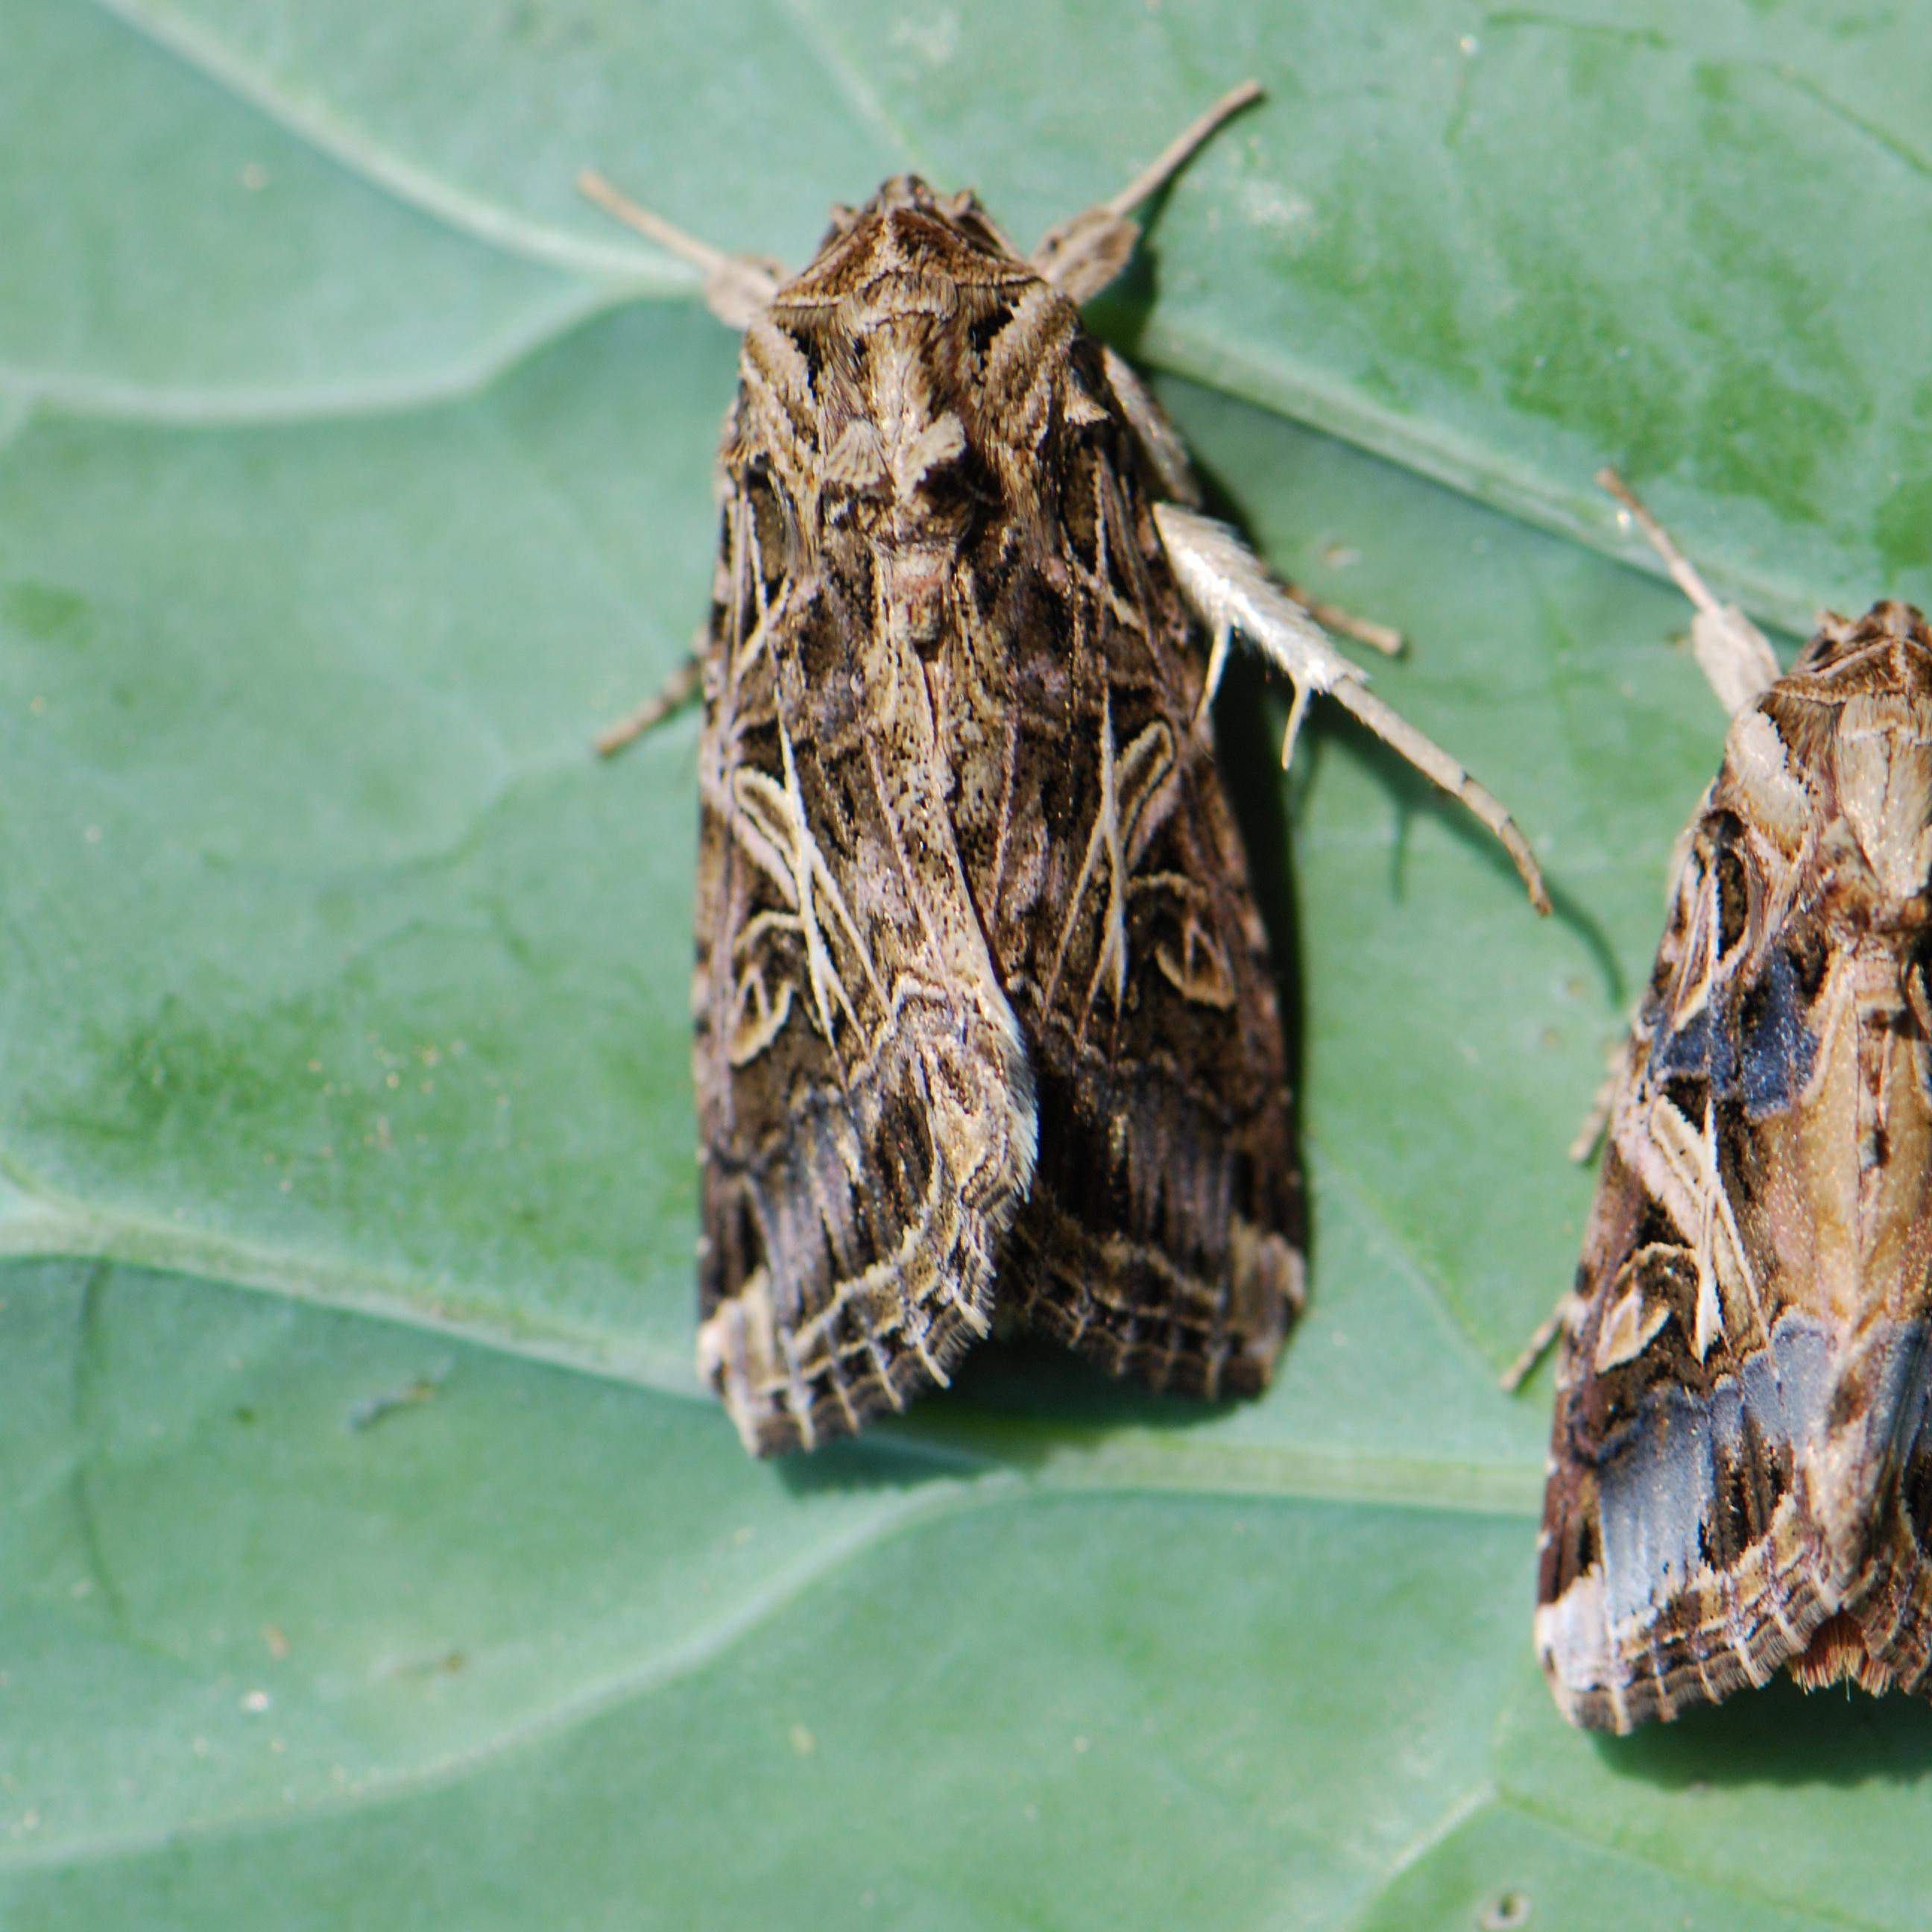Spodoptera litura: (575, 76, 1555, 1463), (1500, 465, 1932, 1739)
